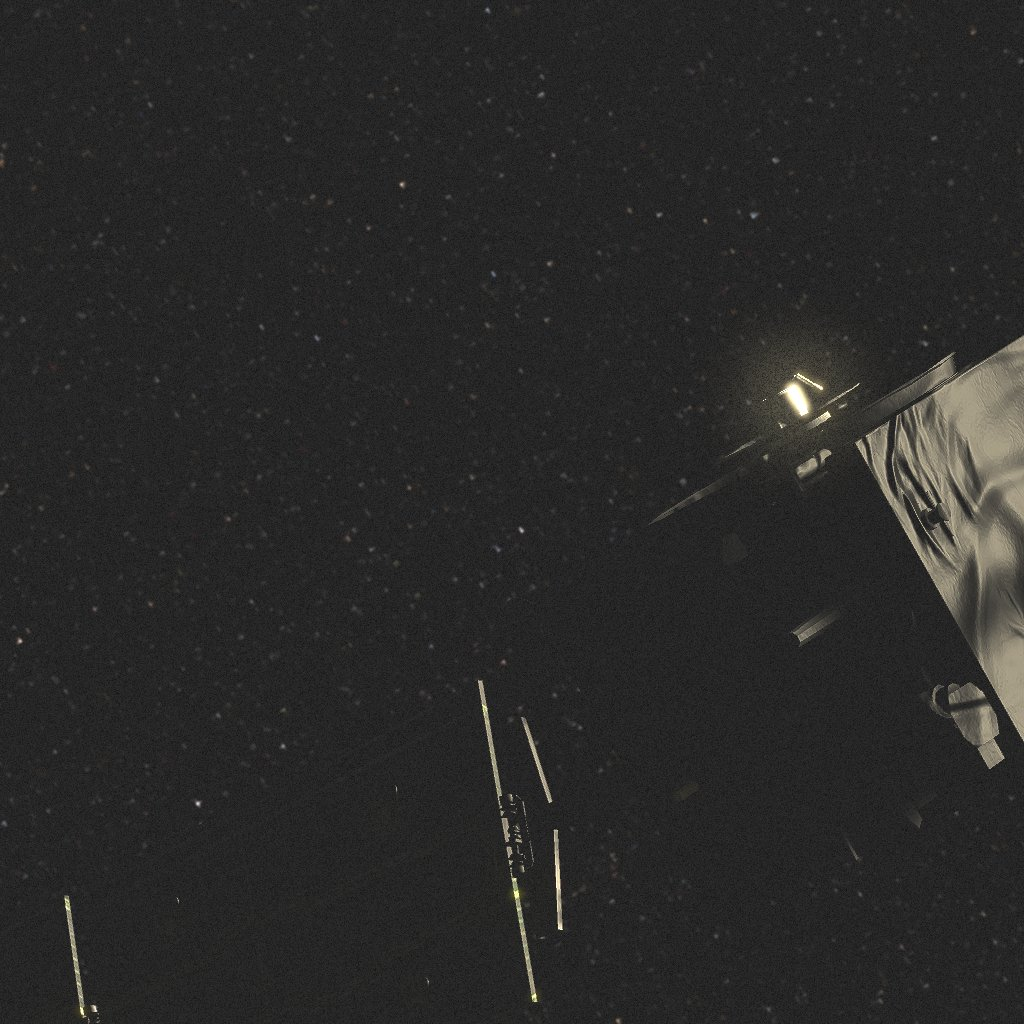smart_1: (0, 302, 1024, 1024)
